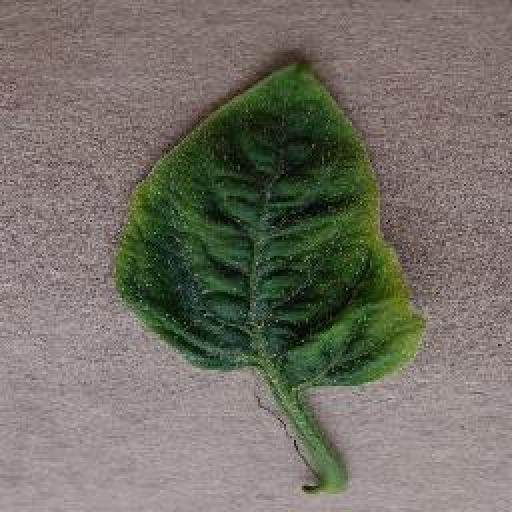disease_tomato: (111, 56, 428, 393)
